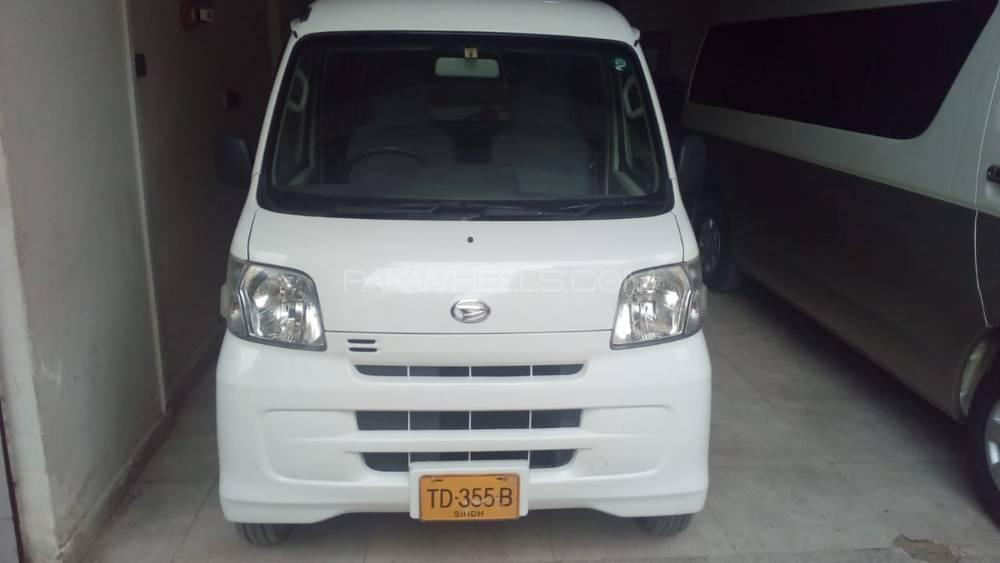license plate: (419, 478, 518, 519)
